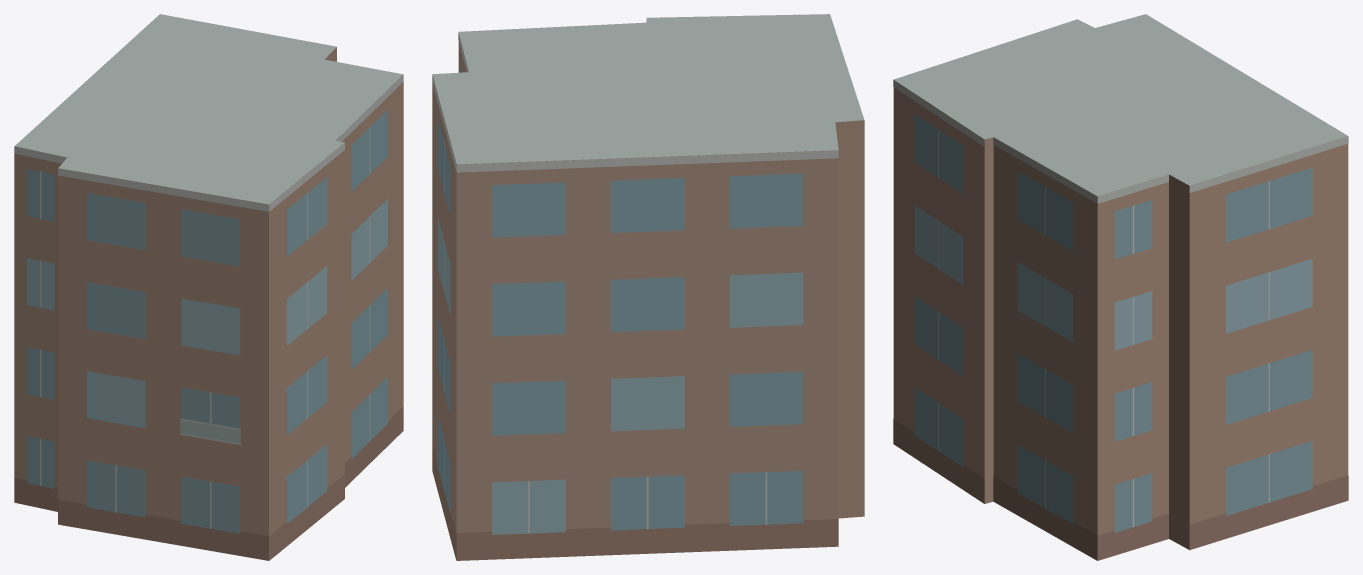
Rendered from survey-upis-32998338.glb.
3 views of the same model, side by side, from view 1: azimuth 30°, elevation 25°; view 2: azimuth 150°, elevation 25°; view 3: azimuth 270°, elevation 25° (orthographic). The views are drawn at different scales.
Visible parts, largest first — view 1: survey-upis-32998338.tmp; view 2: survey-upis-32998338.tmp; view 3: survey-upis-32998338.tmp.
Boxes of the visible parts, x1,y1,x2,y2 form: survey-upis-32998338.tmp: (14, 14, 403, 560); survey-upis-32998338.tmp: (432, 14, 864, 560); survey-upis-32998338.tmp: (893, 14, 1348, 560).
Size of the model in its own units: 12.67 by 11.8 by 13.36.
